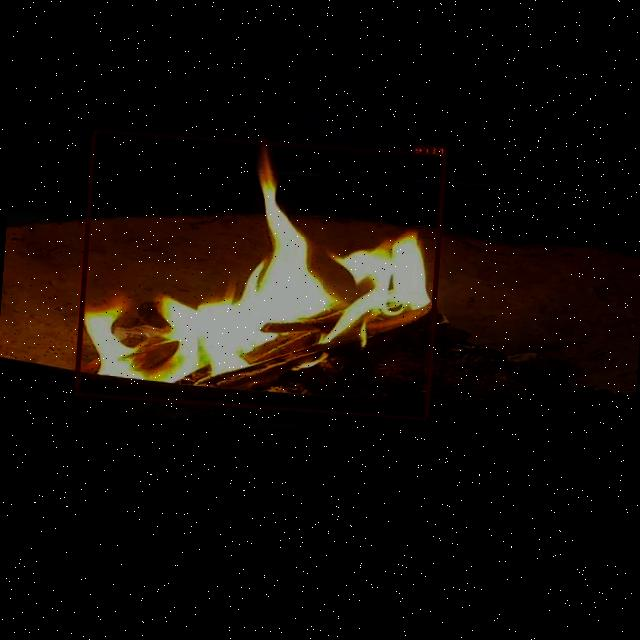fire: (75, 130, 448, 420)
